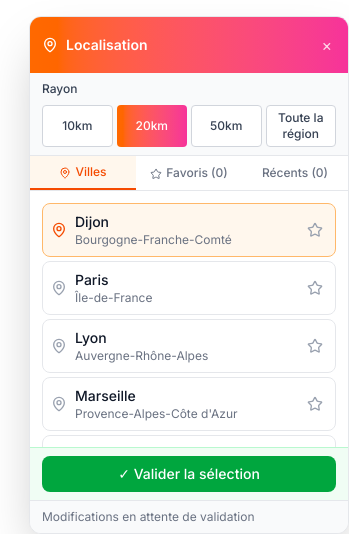
Test: LocationDropdown › États vides › affiche le message quand aucun historique
(page scrolled)
// Aller sur l'onglet Récents
Click the button "Récents (0)" at (295, 173), box [242, 156, 348, 190]
(page scrolled)
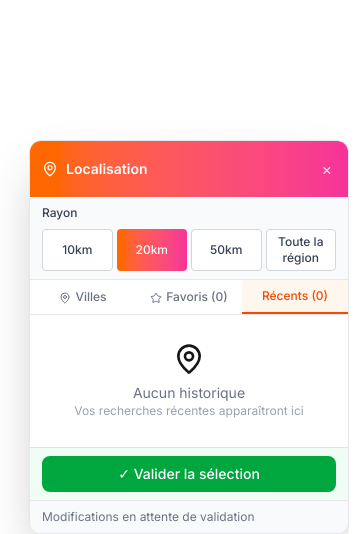
Expected: the text "Aucun historique" is shown, [133, 384, 245, 401]
